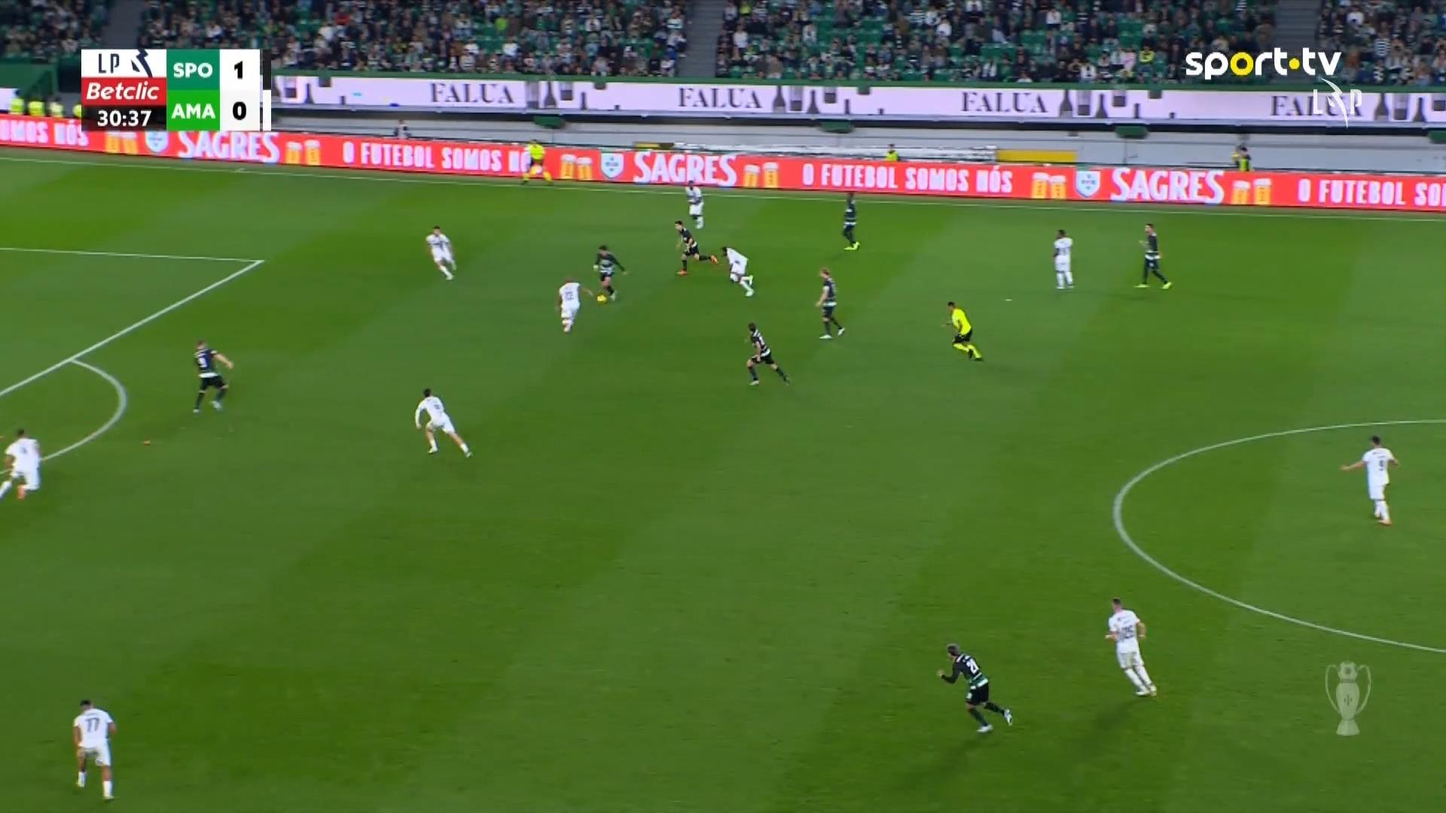ball: (596, 294, 606, 303)
player: (936, 642, 1013, 733), (1104, 596, 1157, 696), (1341, 434, 1399, 525), (72, 697, 117, 799), (413, 387, 473, 458), (191, 338, 233, 413), (0, 428, 42, 500), (743, 321, 790, 385), (673, 219, 718, 276), (1135, 222, 1172, 289), (814, 267, 845, 339), (554, 276, 593, 333), (592, 243, 627, 302), (718, 244, 755, 297), (425, 224, 456, 281), (1051, 228, 1075, 289), (841, 190, 859, 250), (684, 178, 705, 229)
referee: (942, 300, 983, 360), (519, 139, 554, 186)
